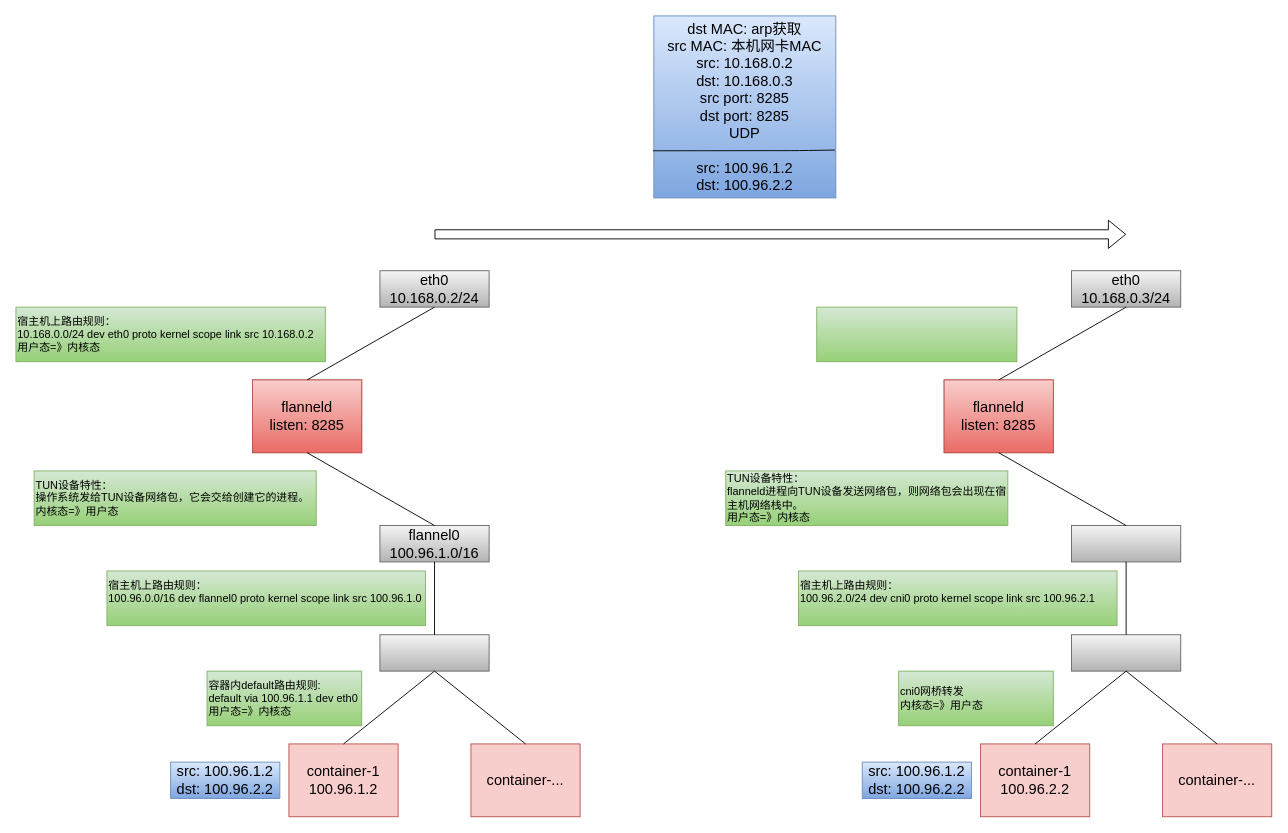
Image size: 1288x833. Some labels were removed from this diagram. Here are the shapes that lost their labels. From the top down, the centre of each, then its label:
At (x=916, y=334): "宿主机上flanneld正监听着8285端口 内核态=》用户态".
At (x=1126, y=543): "flannel0 100.96.2.0/16".
At (x=434, y=652): "cni0 100.96.1.1/24".
At (x=1126, y=652): "cni0 100.96.2.1/24".
